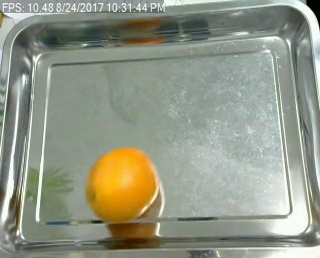Orange: (85, 146, 158, 223)
